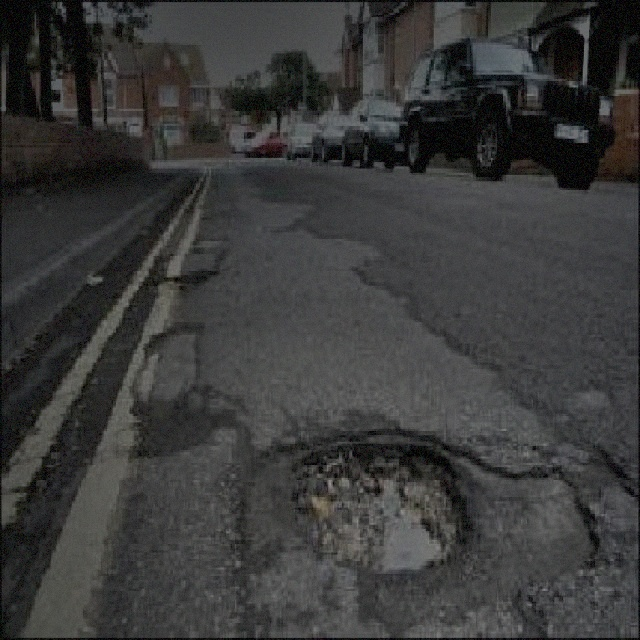pothole: (280, 431, 473, 578)
